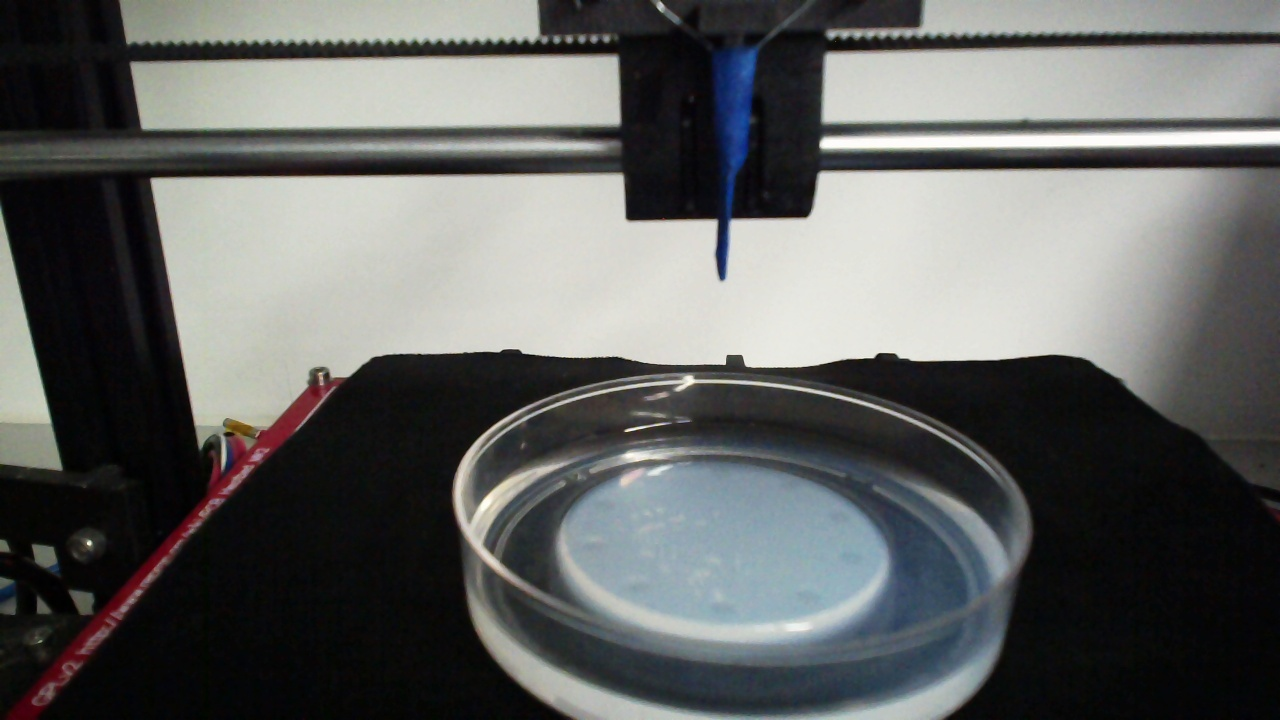groove: (706, 597, 736, 619), (588, 491, 617, 513), (792, 586, 823, 606), (774, 473, 802, 495), (579, 534, 607, 555), (624, 577, 652, 597), (825, 507, 854, 526), (839, 547, 866, 567), (709, 464, 735, 481)
needle: (717, 51, 754, 278)
